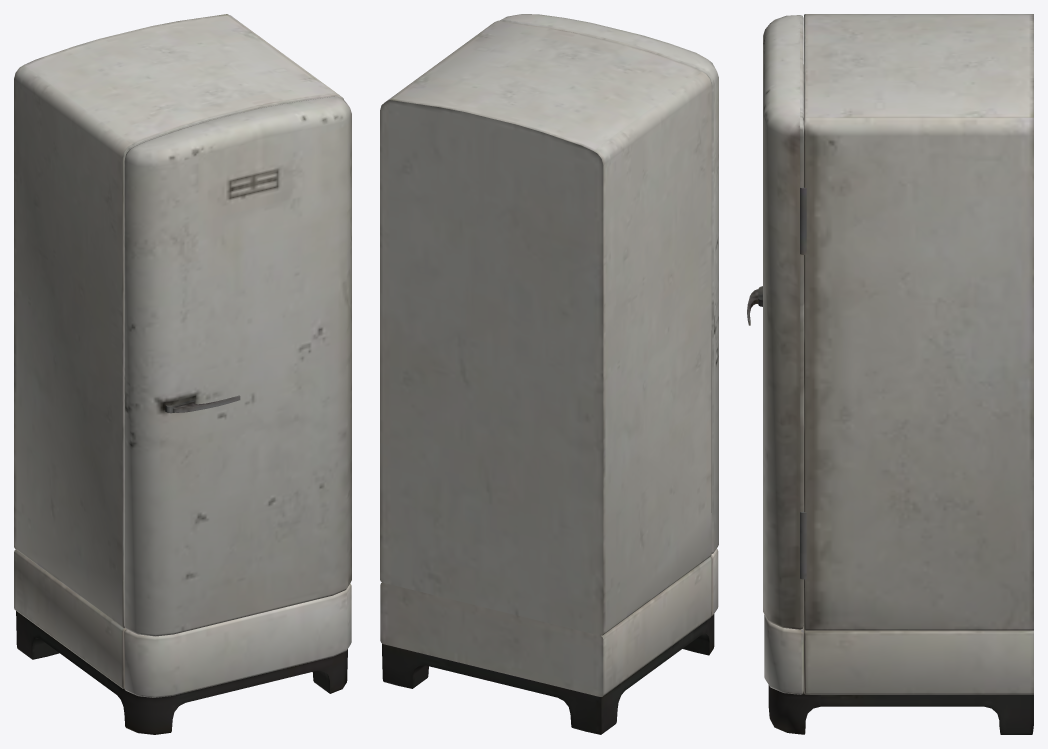
File: fridge.glb
3 views of the same model, side by side, from view 1: azimuth 30°, elevation 25°; view 2: azimuth 150°, elevation 25°; view 3: azimuth 270°, elevation 25° (orthographic). The views are drawn at different scales.
Parts seen in each view (by area): view 1: Cube.004, Plane.004_Material_0; view 2: Plane.004_Material_0, Cube.004; view 3: Plane.004_Material_0, Cube.004.
Boxes of the visible parts, <box> form: Cube.004: <box>124,96,351,636</box>; Plane.004_Material_0: <box>14,14,351,734</box>; Plane.004_Material_0: <box>380,20,718,734</box>; Cube.004: <box>500,14,718,553</box>; Plane.004_Material_0: <box>764,14,1033,734</box>; Cube.004: <box>747,15,806,629</box>.
Size of the model in its own units: 0.7336 by 1.85 by 0.774.
Materials: 1 (1 with a texture image).
